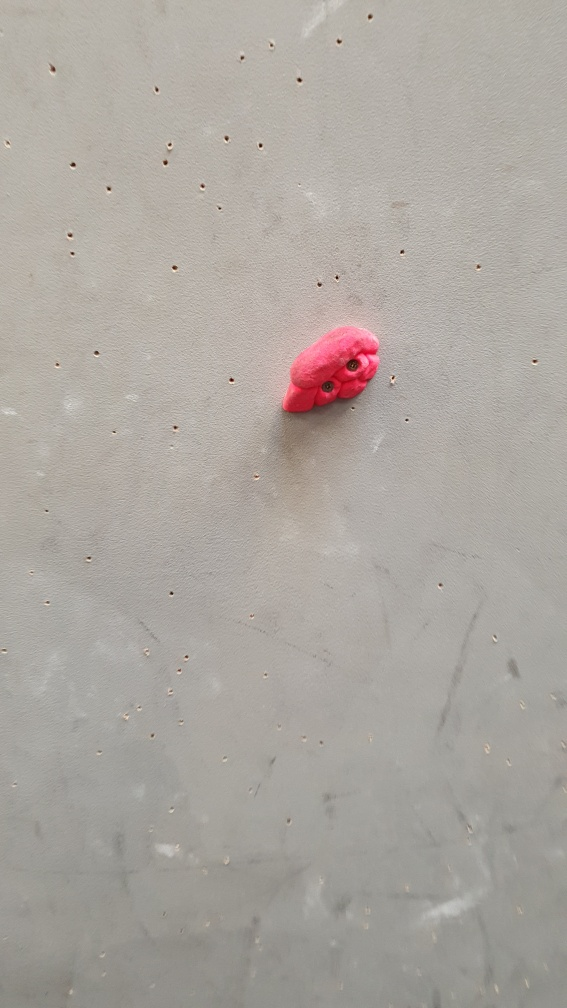Jug: (275, 321, 385, 420)
